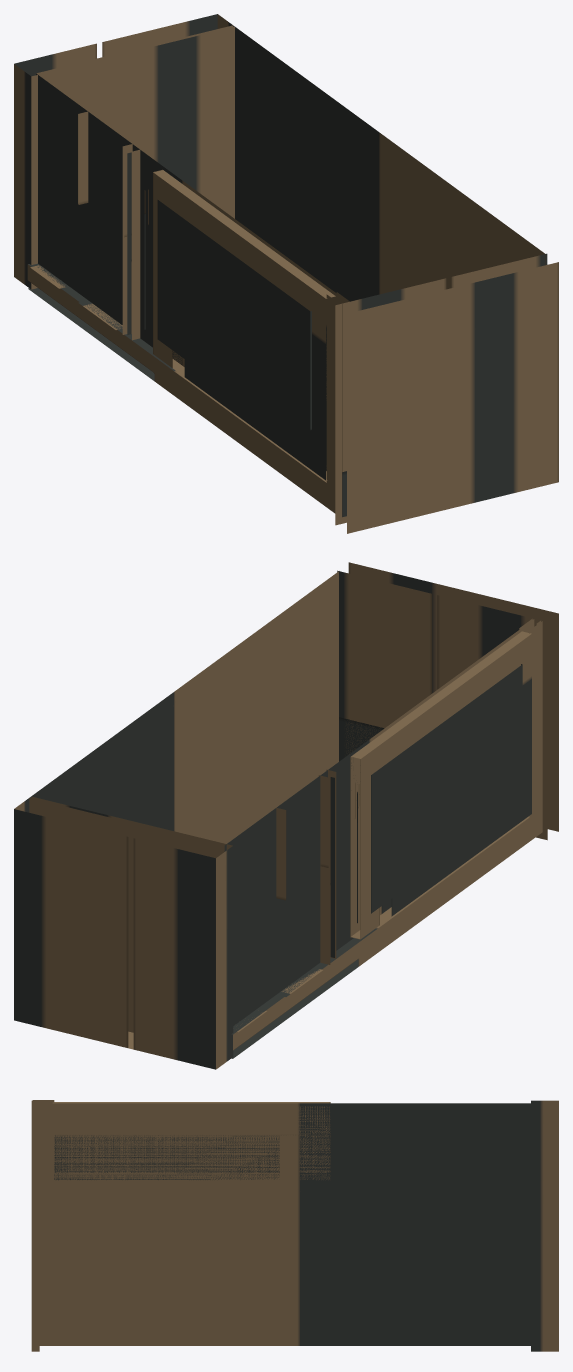
File: section-5.obj
The picture shows the model from 3 angles, top to bottom: view 1: azimuth 30°, elevation 25°; view 2: azimuth 150°, elevation 25°; view 3: azimuth 270°, elevation 25°; orthographic projection. The views are drawn at different scales.
Bounding box in the file's own units: 0.6729 × 0.63 × 1.76.
